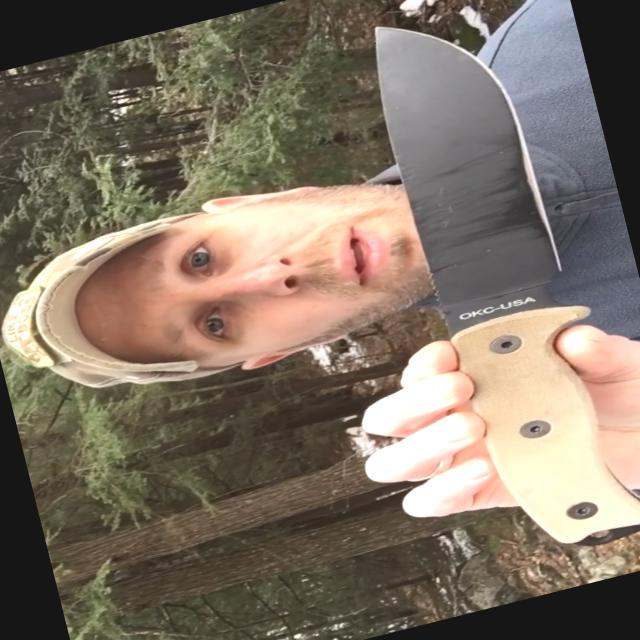knife: (256, 0, 638, 535)
